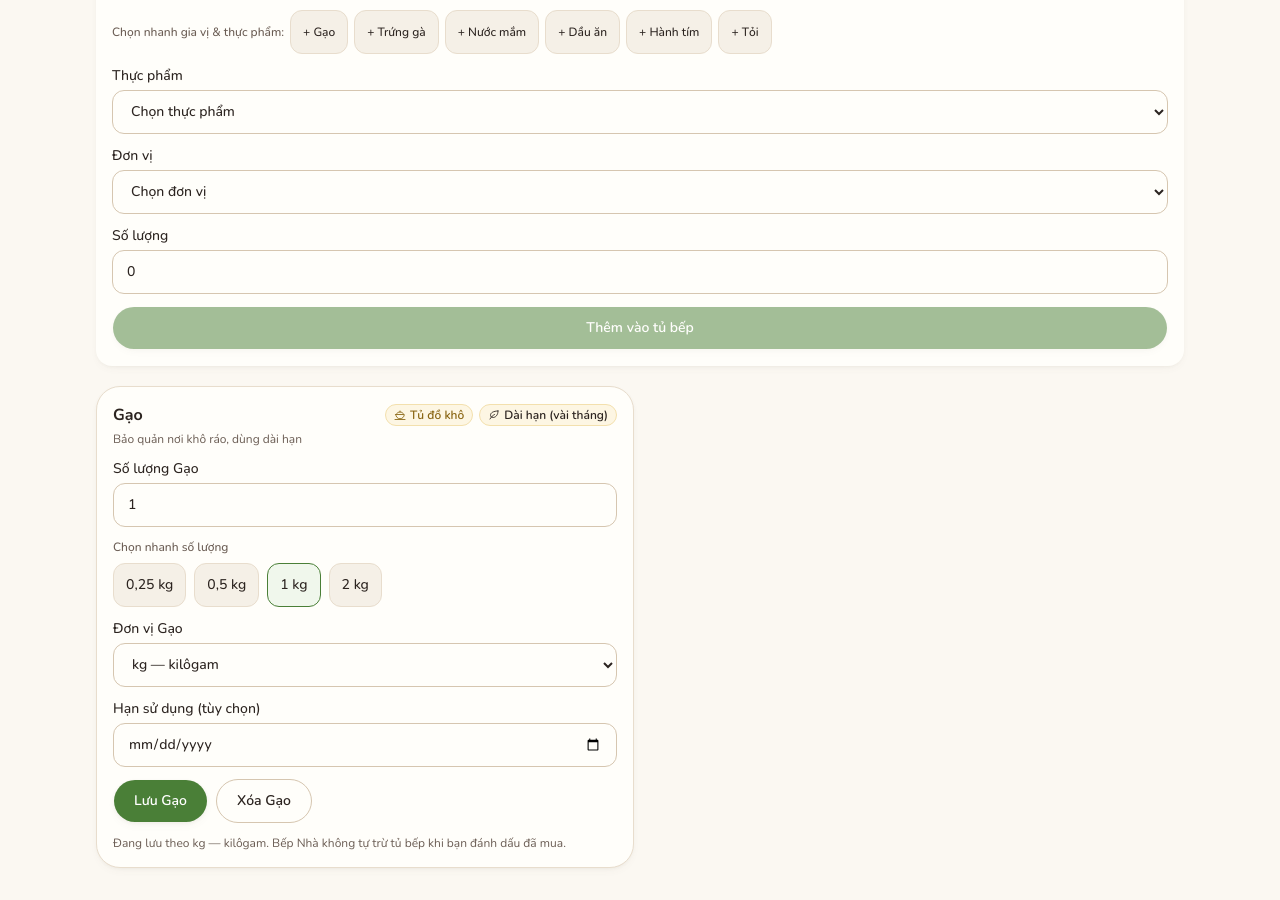
PantryPage › updates and removes an existing item with its optimistic version
(page scrolled)
Replace the text in the number field labelled "Số lượng Gạo" with "1.5" at (365, 504), box 113,482 -> 617,526
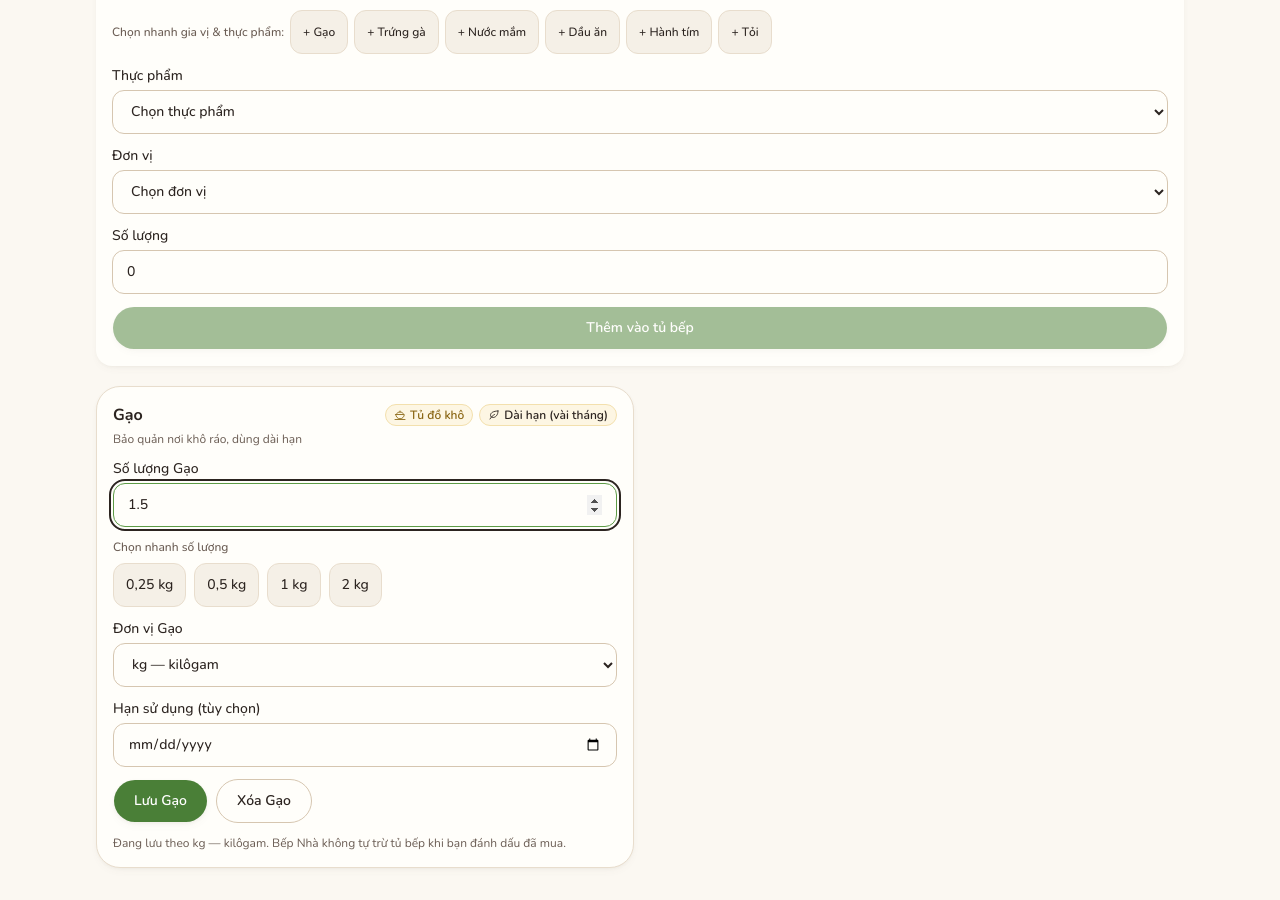
Click the button "Lưu Gạo" at (160, 800), box 113,778 -> 208,822
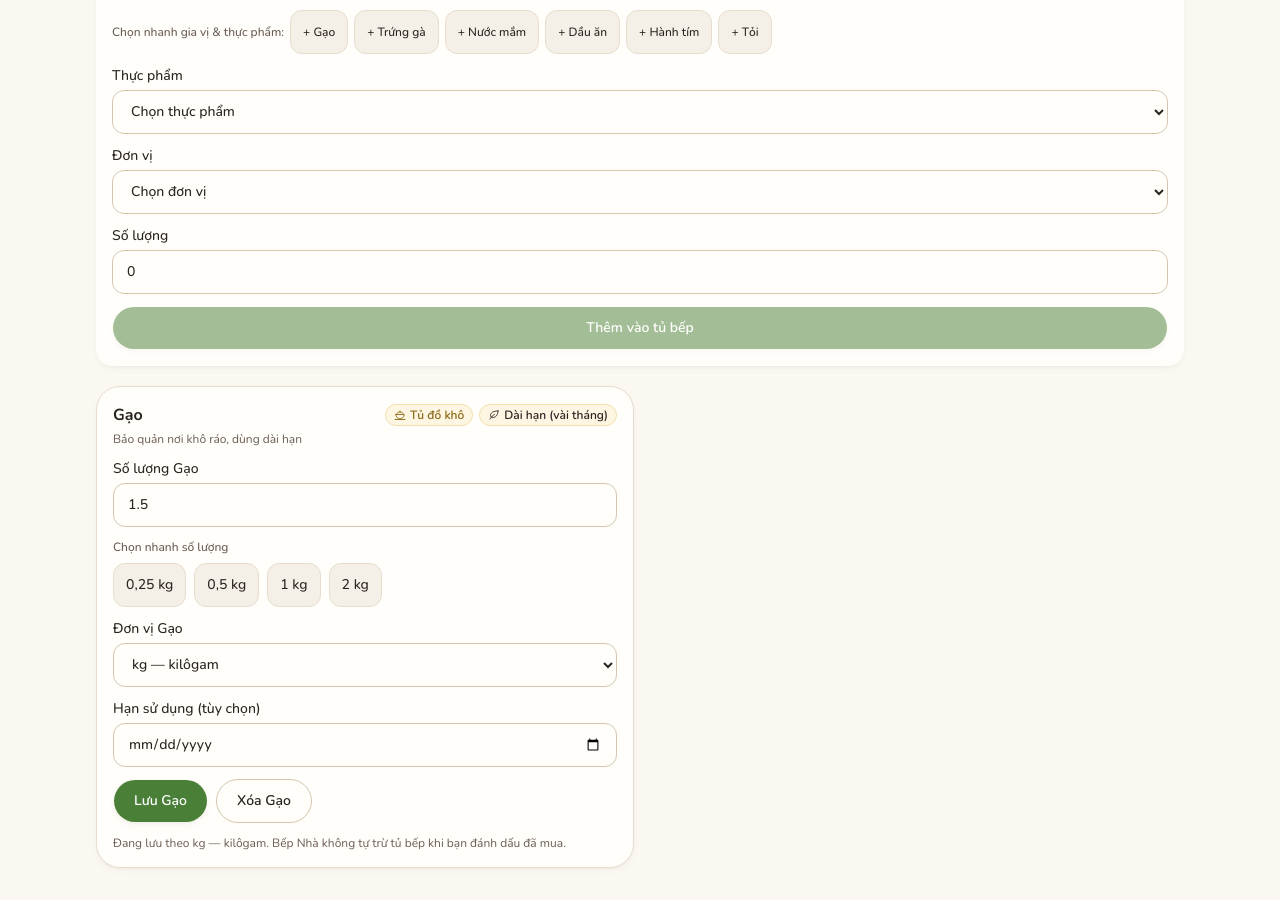
Click the button "Xóa Gạo" at (264, 800), box 216,778 -> 312,822
(page scrolled)
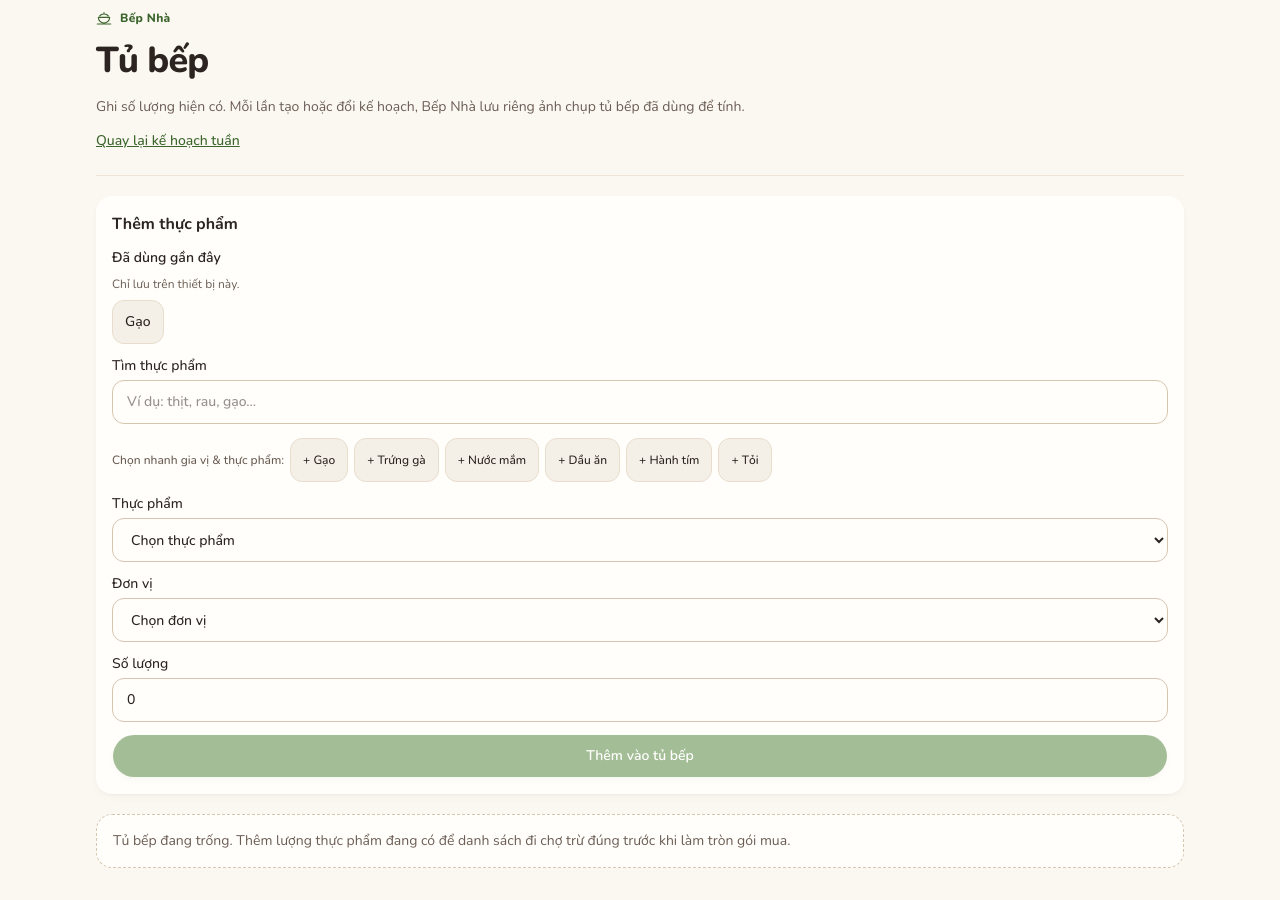
Expected: the list item with test id "pantry-item-pantry-rice" is gone
